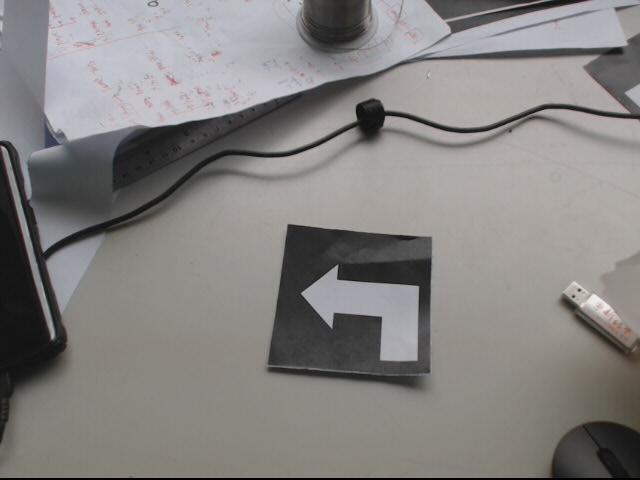left: (270, 224, 436, 379)
